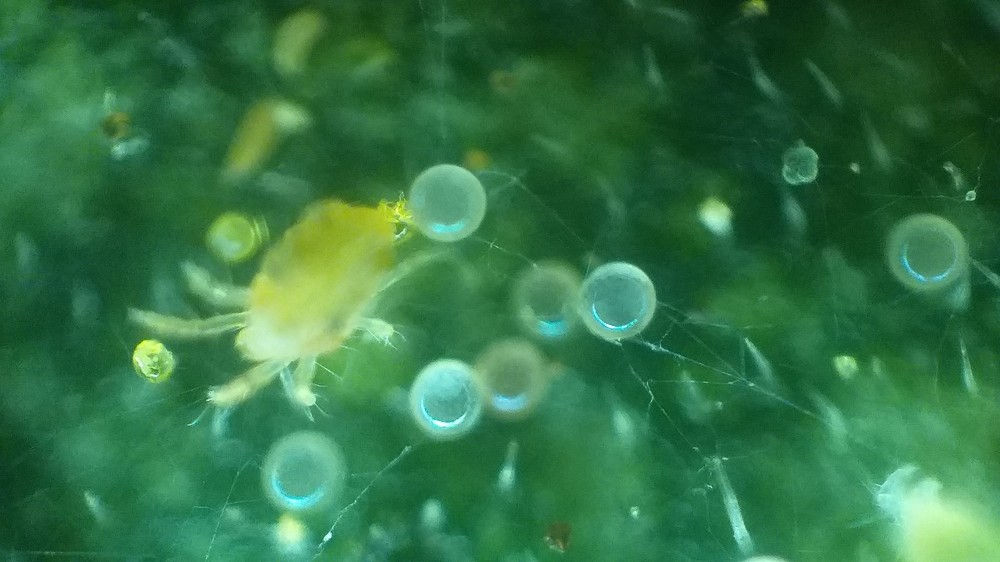Aracnido Rojo: (131, 184, 439, 418)
